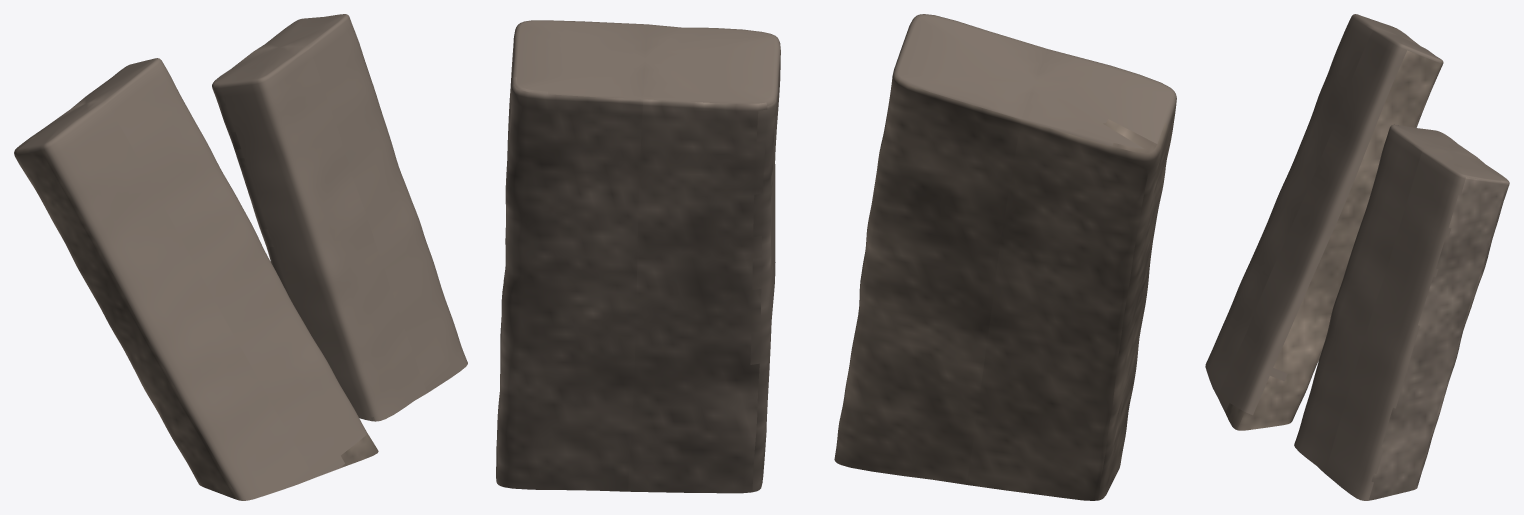
Rendered from VerHenge10.glb.
3 renders of one model, left to right at view 1: azimuth 30°, elevation 25°; view 2: azimuth 150°, elevation 25°; view 3: azimuth 270°, elevation 25°, orthographic. The views are drawn at different scales.
Parts seen in each view (by area): view 1: VerHenge10; view 2: VerHenge10; view 3: VerHenge10.
Boxes of the visible parts, bbox=[...] form: VerHenge10: bbox=[14, 14, 467, 500]; VerHenge10: bbox=[496, 14, 1176, 500]; VerHenge10: bbox=[1205, 14, 1509, 500].
Size of the model in its own units: 5.23 by 4.11 by 3.46.
2 materials, 1 textured.
